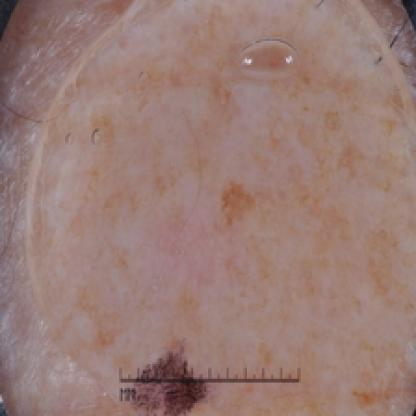malignant: (175, 36, 312, 86), (214, 161, 250, 236)
